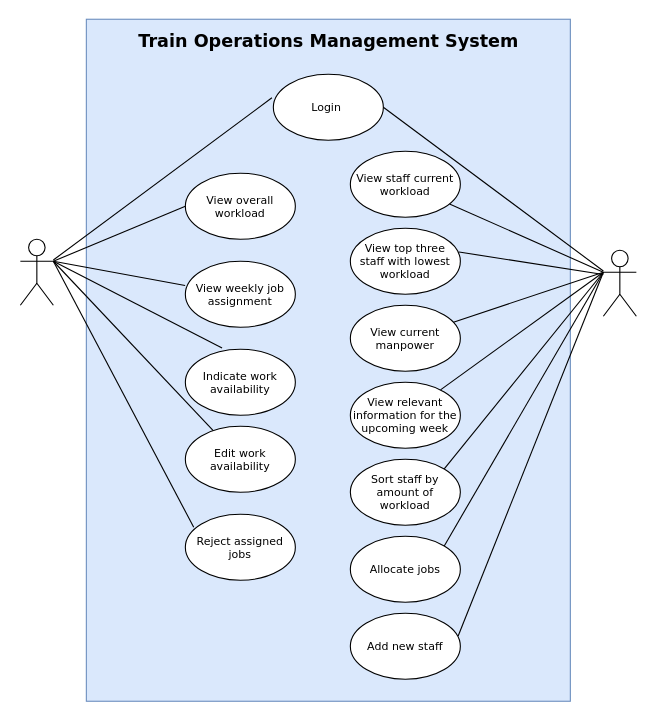
Image size: 671x721. Some labels were removed from this diagram. Each missing label, with the box of its shape:
Manager: (602, 249, 636, 316)
Staff: (19, 238, 53, 305)
